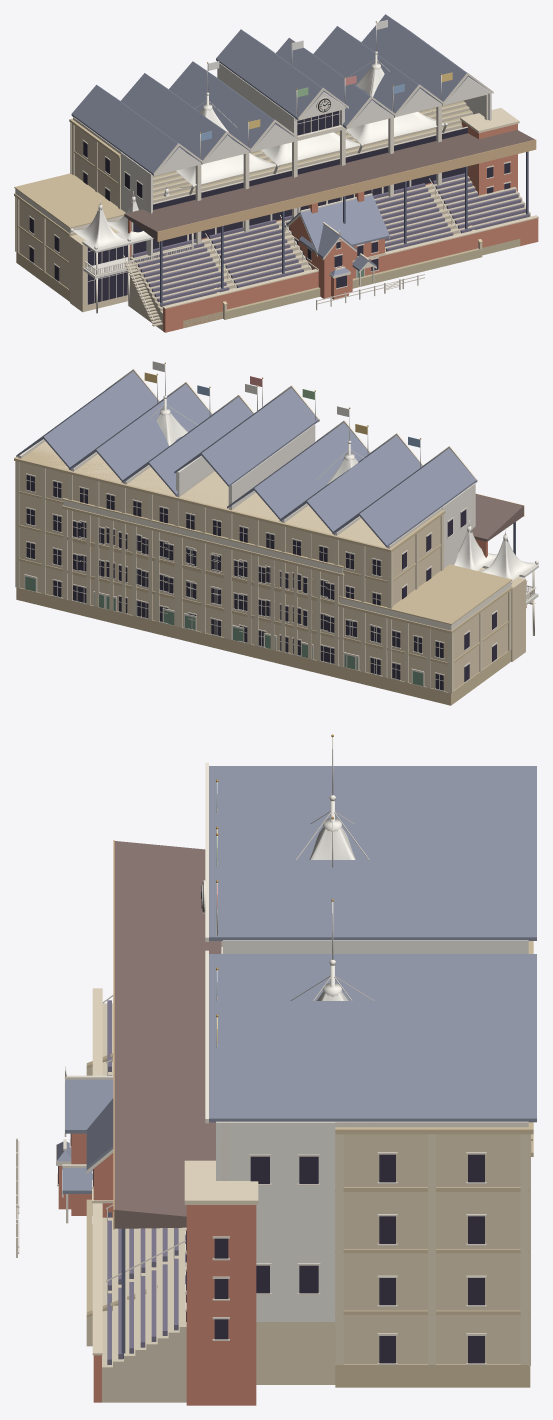
The model's file is gen-downs-r_stands.glb.
3 renders of one model, top to bottom at view 1: azimuth 30°, elevation 25°; view 2: azimuth 150°, elevation 25°; view 3: azimuth 270°, elevation 25°, orthographic. The views are drawn at different scales.
Parts seen in each view (by area): view 1: park_gable_stand, terrace_mid, park_tent_stand, victorian_house; view 2: park_gable_stand, park_tent_stand, terrace_mid; view 3: park_gable_stand, terrace_mid, victorian_house, park_tent_stand.
Boxes of the visible parts, box(x1,y1,x2,y2) form: park_gable_stand: box(69, 14, 520, 328); terrace_mid: box(123, 108, 538, 332); park_tent_stand: box(14, 20, 482, 319); victorian_house: box(284, 190, 424, 310); park_gable_stand: box(14, 368, 477, 690); park_tent_stand: box(62, 361, 538, 705); terrace_mid: box(471, 493, 535, 607); park_gable_stand: box(201, 762, 536, 1387); terrace_mid: box(92, 840, 258, 1405); victorian_house: box(16, 1066, 113, 1257); park_tent_stand: box(86, 734, 533, 1346).
Size of the model in its own units: 69.5 by 32.07 by 37.48.
